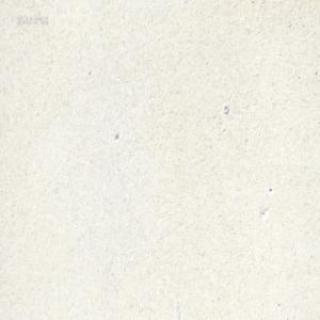Washertrack_idkeyframe: (222, 103, 228, 114)
